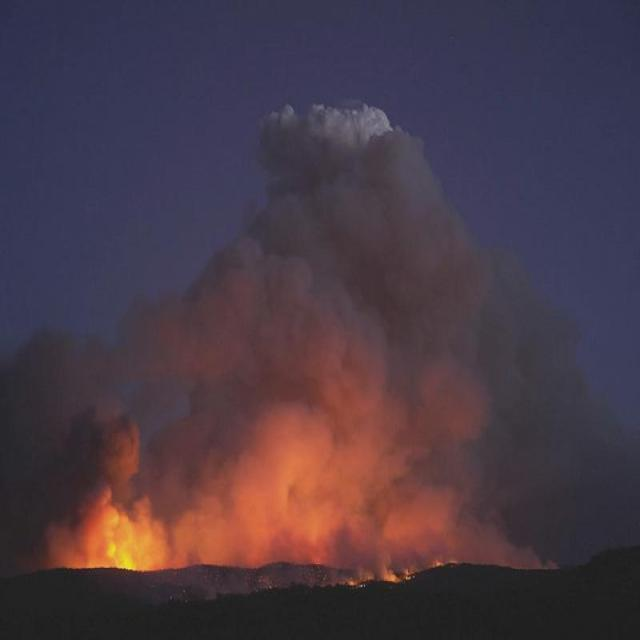Fire: (4, 404, 556, 570), (273, 359, 498, 402)
Smoke: (256, 98, 602, 349), (1, 202, 254, 390), (561, 358, 640, 558)
